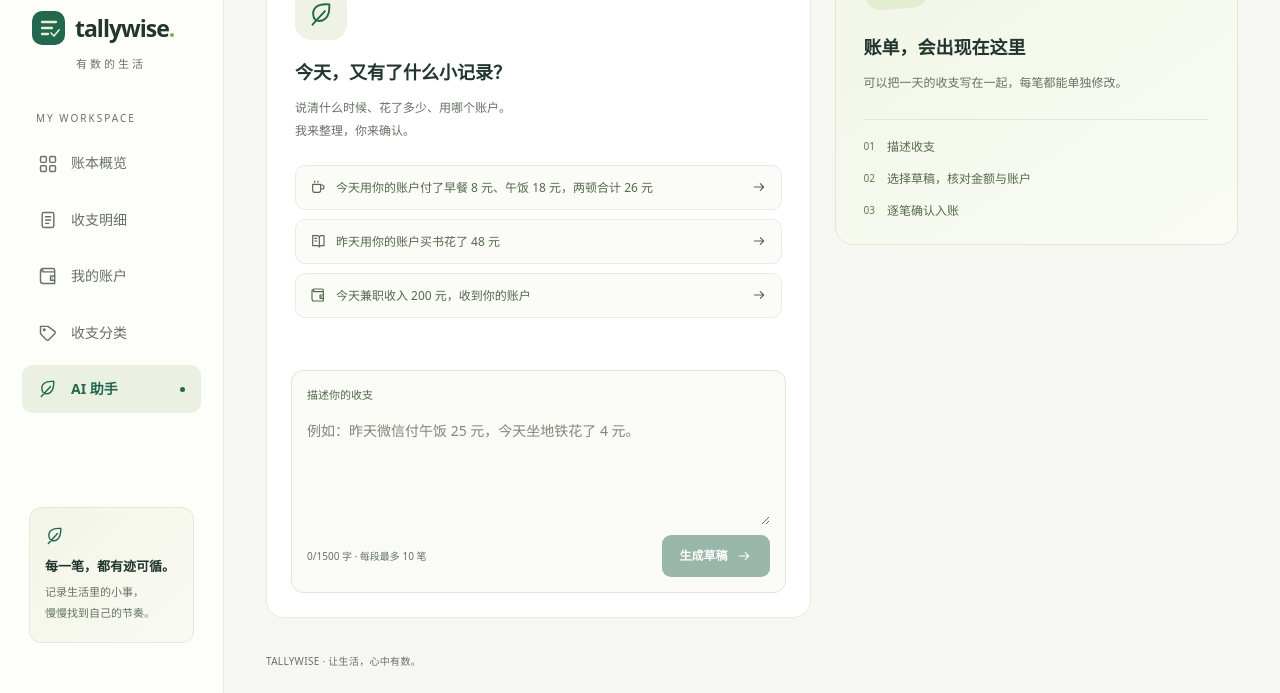
Test: AI 助手路由与入账流程 › 导航可达，生成草稿不会入账，确认时保存用户修改后的内容
(page scrolled)
In the text box labelled "描述你的收支": (538, 468) 307,411 -> 770,526, type "今天午饭 25 元，用现金"
(page scrolled)
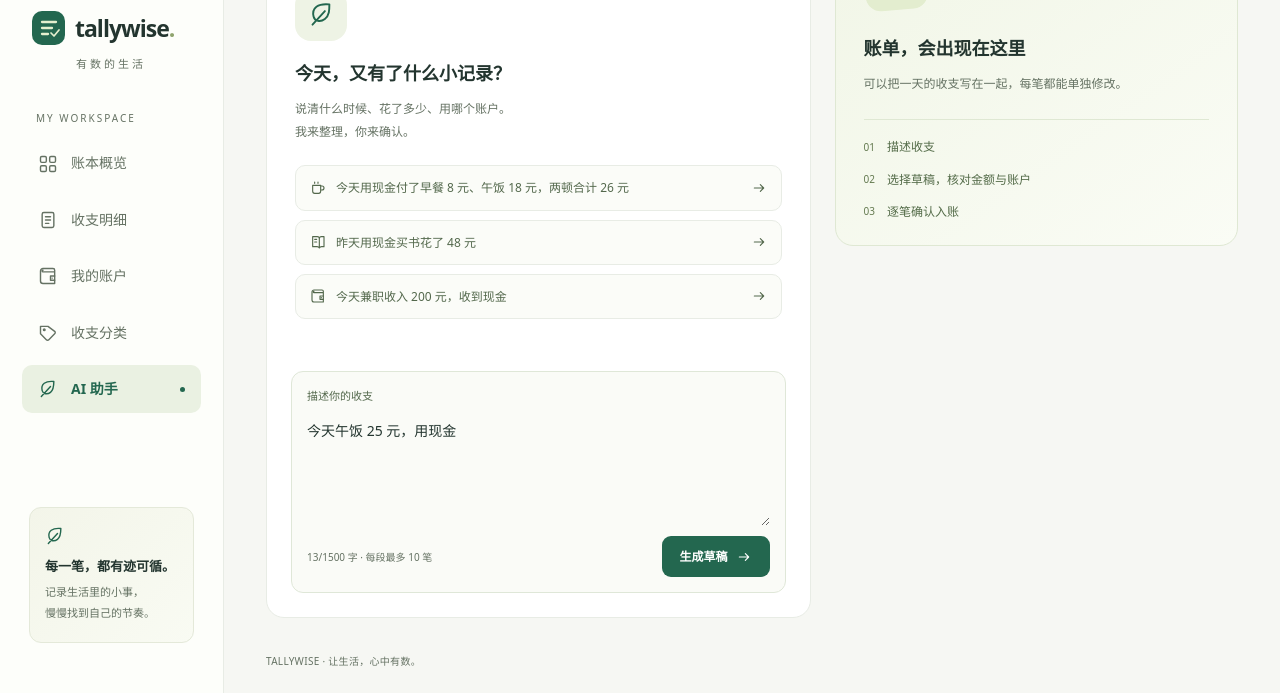
Check: the button "生成草稿" is enabled
Click the button "生成草稿": (716, 557) 662,536 -> 770,577
(page scrolled)
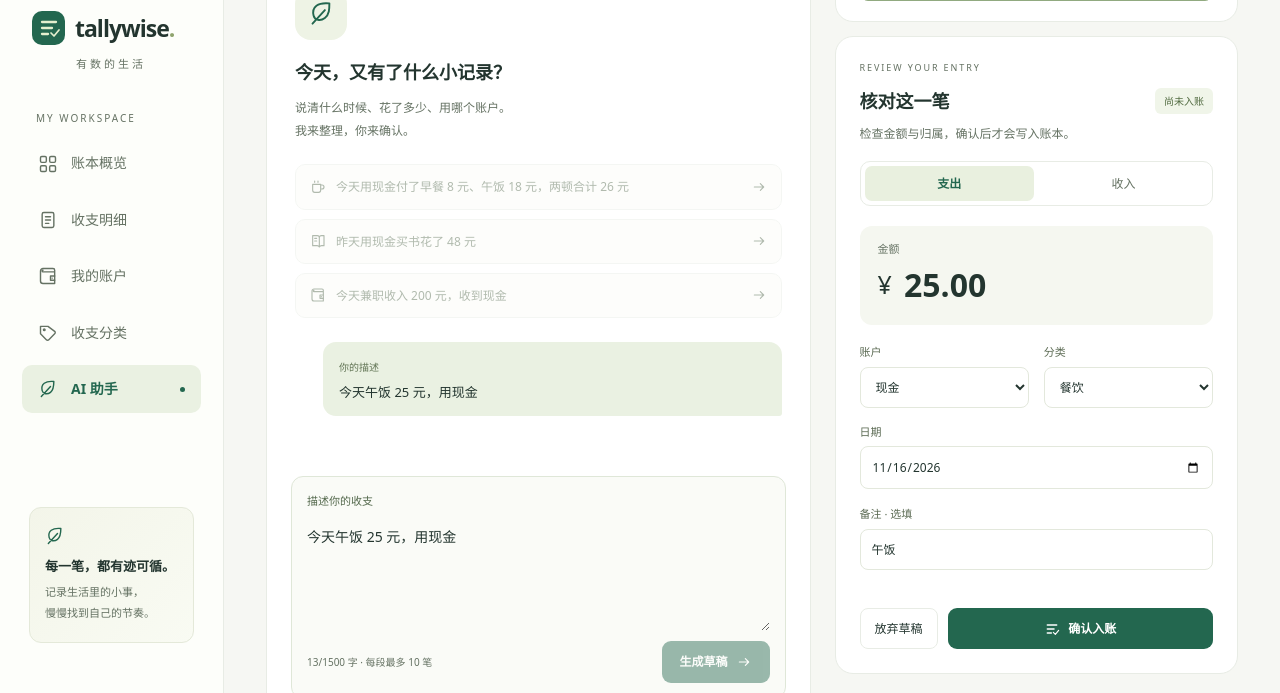
Check: the button "确认入账" is shown, box 948,608 -> 1213,649
Replace the text in the field labelled "金额" with "30.50": (1048, 284) 902,258 -> 1195,311
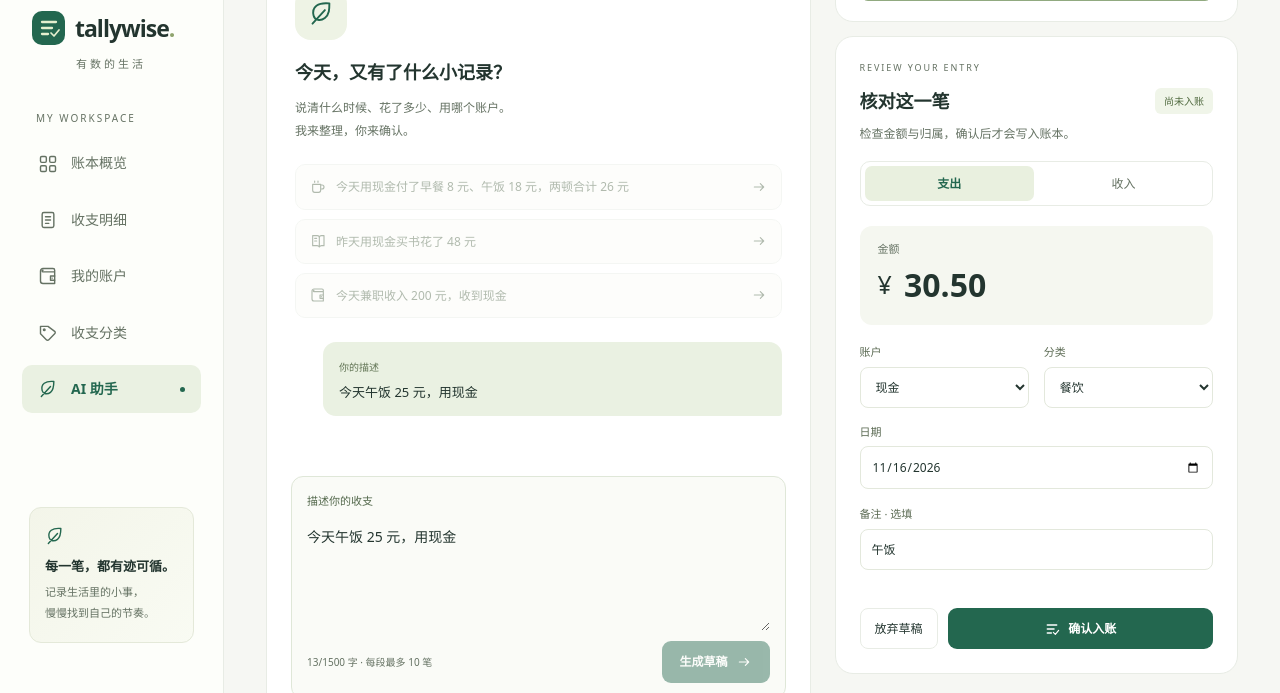
Click the button "确认入账": (1080, 629) 948,608 -> 1213,649
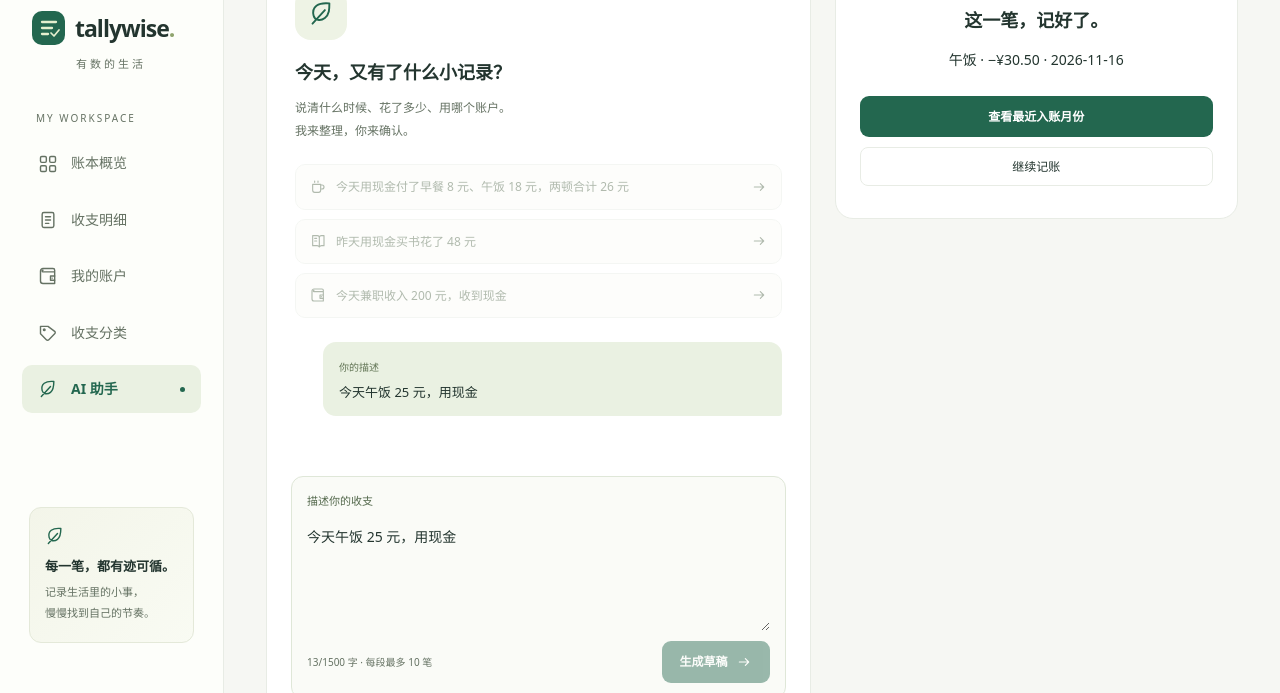
Check: the heading "这一笔，记好了。" is shown, box 964,8 -> 1108,32
